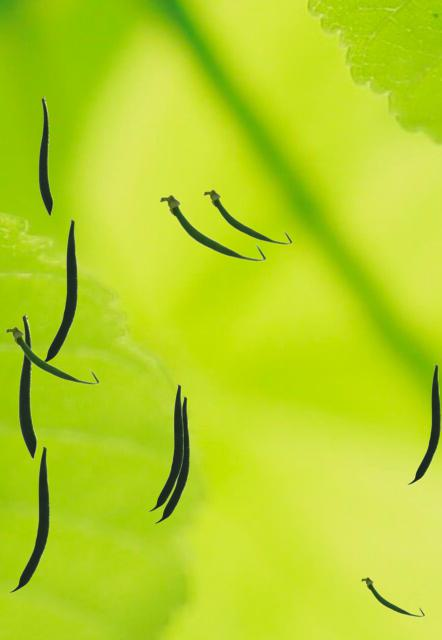french_bean: (158, 193, 266, 261), (9, 446, 48, 591), (4, 325, 99, 384), (202, 188, 292, 244), (44, 219, 76, 361), (154, 396, 188, 522), (148, 384, 182, 510), (407, 364, 439, 483), (18, 313, 36, 458), (360, 576, 424, 616), (38, 96, 52, 215)
